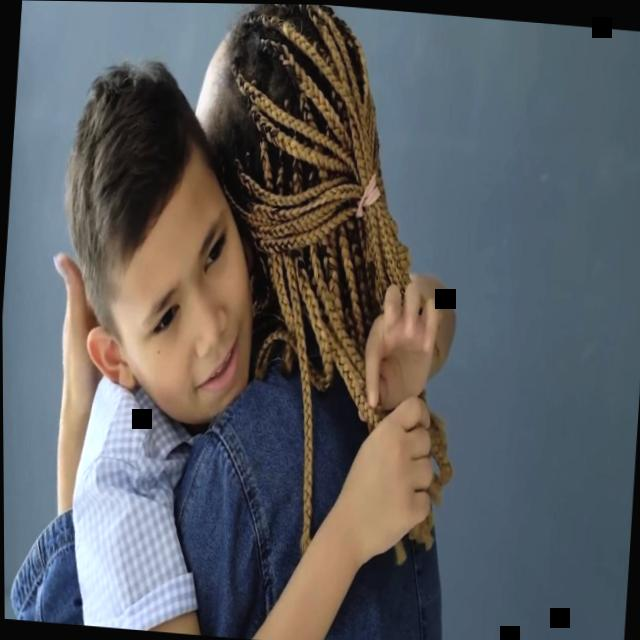NO-Mask: (110, 183, 259, 426)
